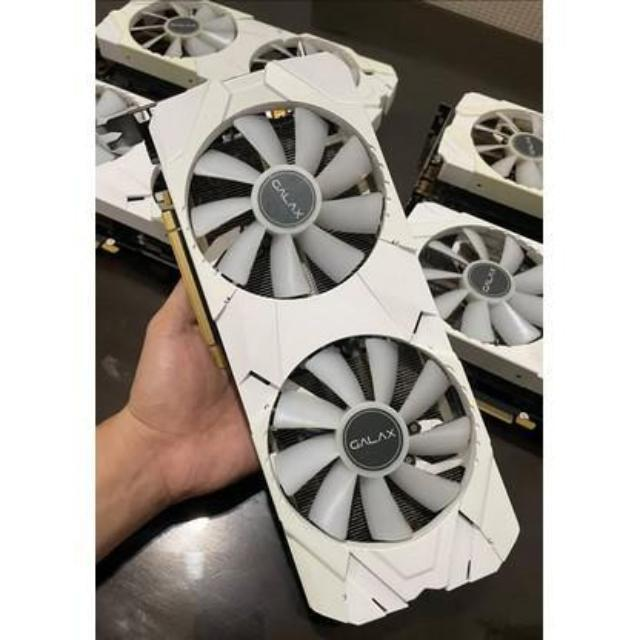GPU: (142, 57, 524, 628)
